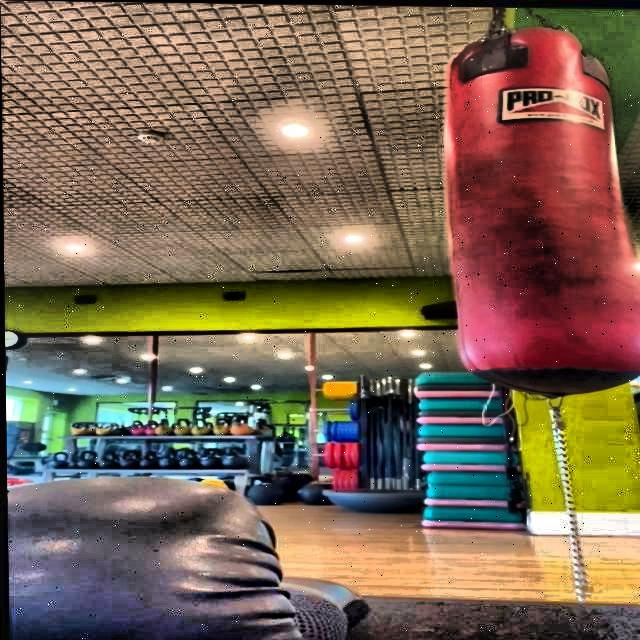boxing-bag: (443, 6, 640, 400)
